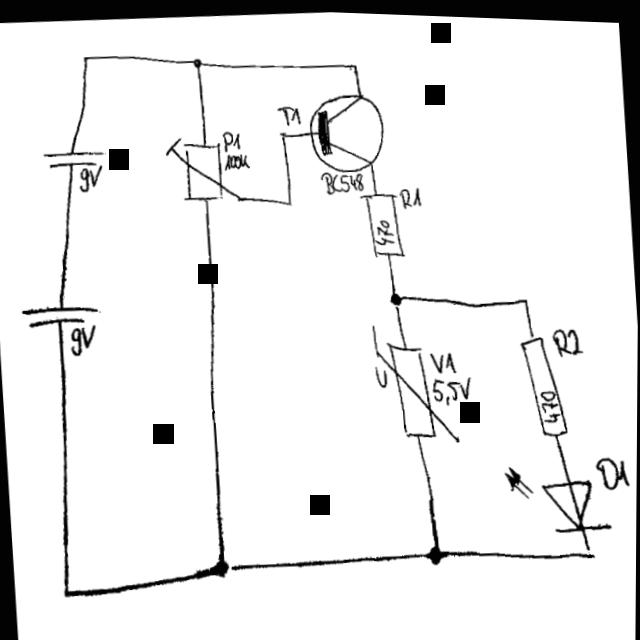diode: (502, 457, 614, 530)
junction: (213, 554, 236, 578), (427, 539, 451, 561), (387, 286, 404, 305), (583, 539, 598, 555), (59, 584, 73, 598), (190, 54, 204, 67), (283, 193, 293, 205), (520, 290, 531, 300), (79, 52, 90, 62), (277, 126, 287, 136), (349, 58, 358, 66)
resistor: (515, 326, 571, 437), (163, 132, 242, 203), (357, 187, 406, 257)
source: (17, 301, 101, 328), (38, 144, 115, 167)
text: (590, 450, 631, 485), (430, 371, 472, 402), (317, 168, 365, 190), (67, 322, 97, 355), (550, 322, 583, 352), (536, 382, 562, 420), (428, 345, 458, 371), (77, 163, 103, 191), (371, 214, 395, 244), (396, 181, 422, 205), (275, 100, 301, 124), (222, 150, 250, 169), (220, 127, 241, 150), (374, 361, 388, 384)
transistor: (304, 87, 387, 169)
